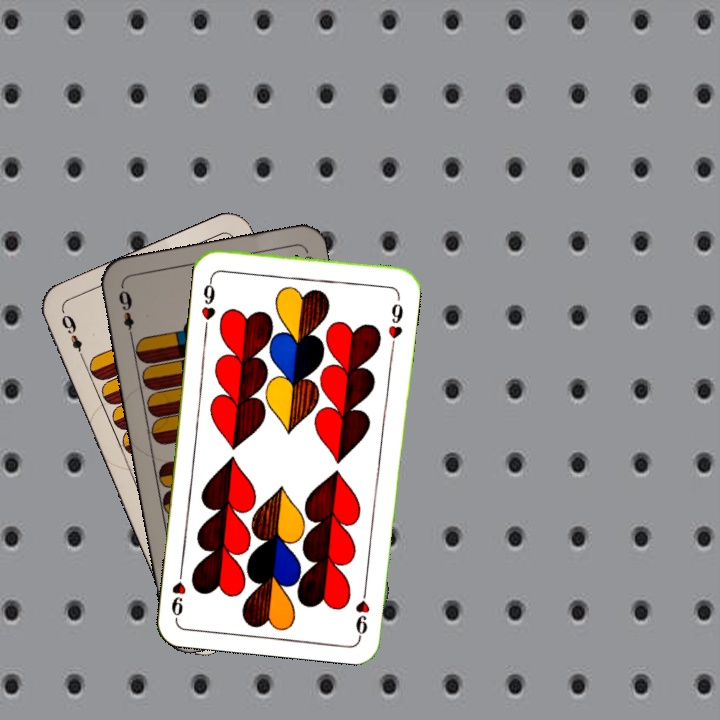E9: (57, 308, 88, 365), (114, 283, 136, 342)
H9: (197, 272, 218, 331), (352, 579, 373, 638)
